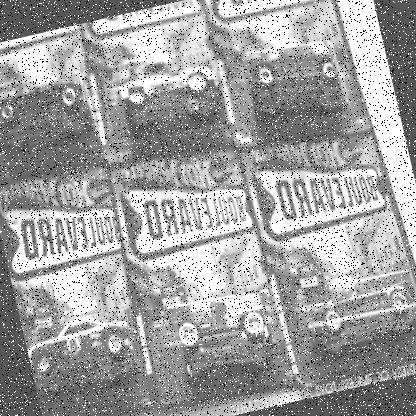Car: (284, 265, 415, 365), (110, 50, 226, 140), (169, 294, 276, 390), (24, 309, 139, 398), (242, 40, 342, 130), (0, 75, 93, 154)
